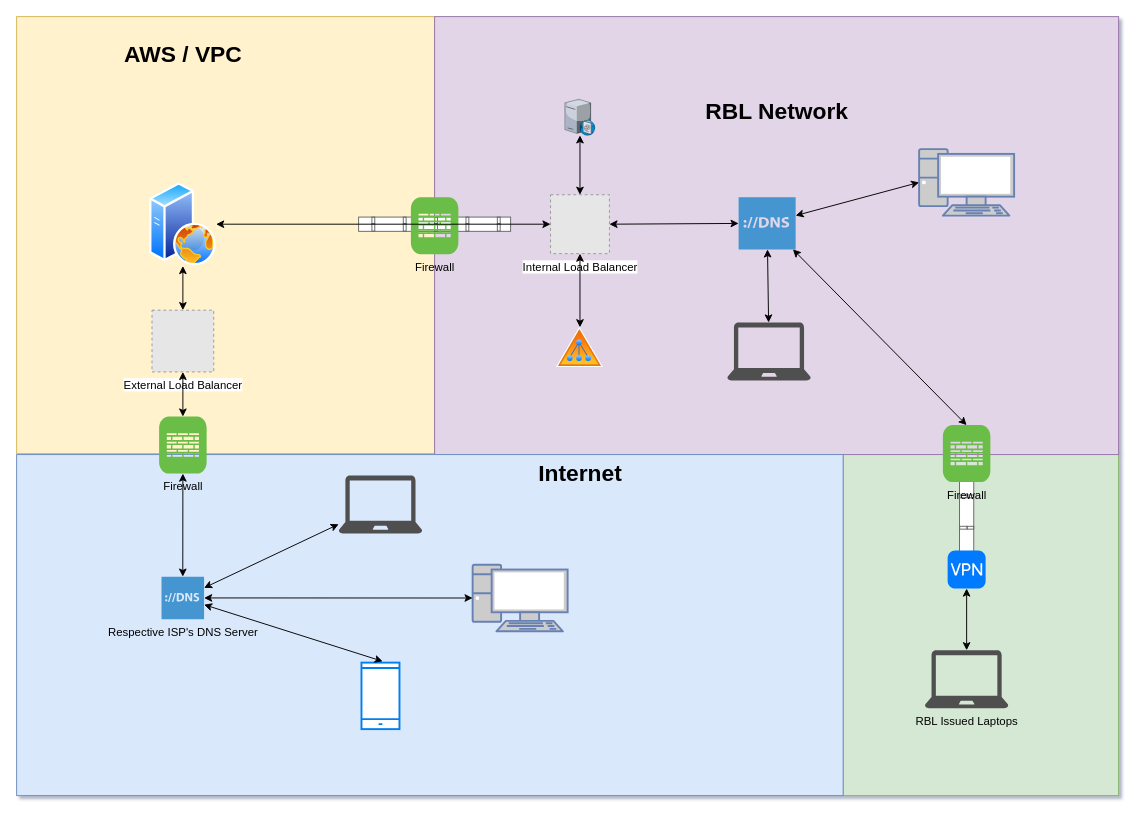
This 1141x818 diagram has some shape labels left out. Grey dashed boxes stand in for pictures. Here are the shapes that lost their labels. From the top down, the centre of each, then its label:
At [579,116]: "SMTP Server".
At [182,224]: "OneQ WebServer".
At [766,223]: "Internal DNS Server".
At [579,347]: "Active Directory".
